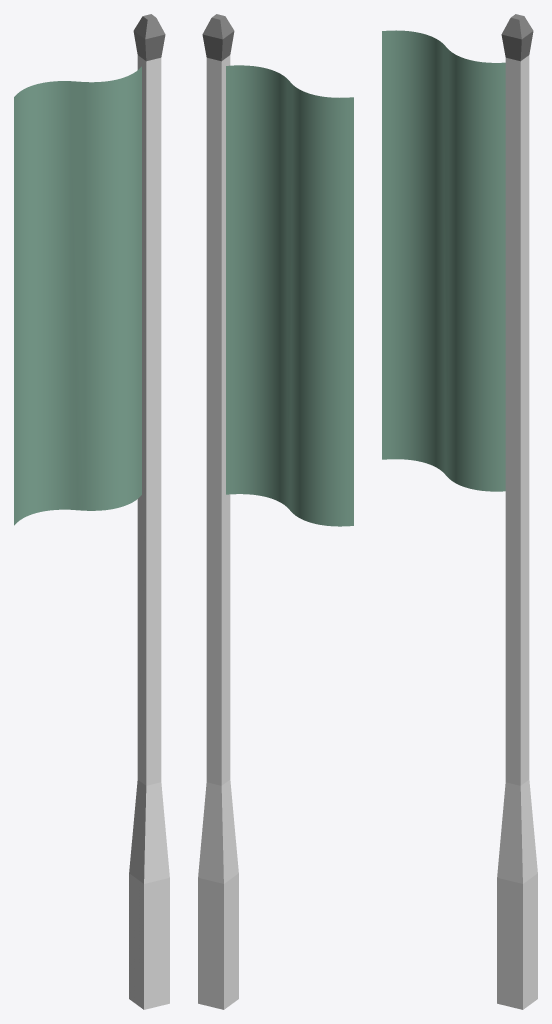
Rendered from flagGreen.glb.
3 renders of one model, left to right at view 1: azimuth 30°, elevation 25°; view 2: azimuth 150°, elevation 25°; view 3: azimuth 330°, elevation 25°, orthographic.
Visible parts, largest first — view 1: flagGreen, Group; view 2: flagGreen, Group; view 3: flagGreen, Group.
Boxes of the visible parts, x1,y1,x2,y2 form: flagGreen: (14, 66, 141, 525); Group: (129, 14, 169, 1009); flagGreen: (226, 65, 353, 526); Group: (198, 14, 238, 1009); flagGreen: (382, 30, 505, 491); Group: (497, 14, 537, 1009).
Size of the model in its own units: 0.1972 by 1.25 by 0.0352.
